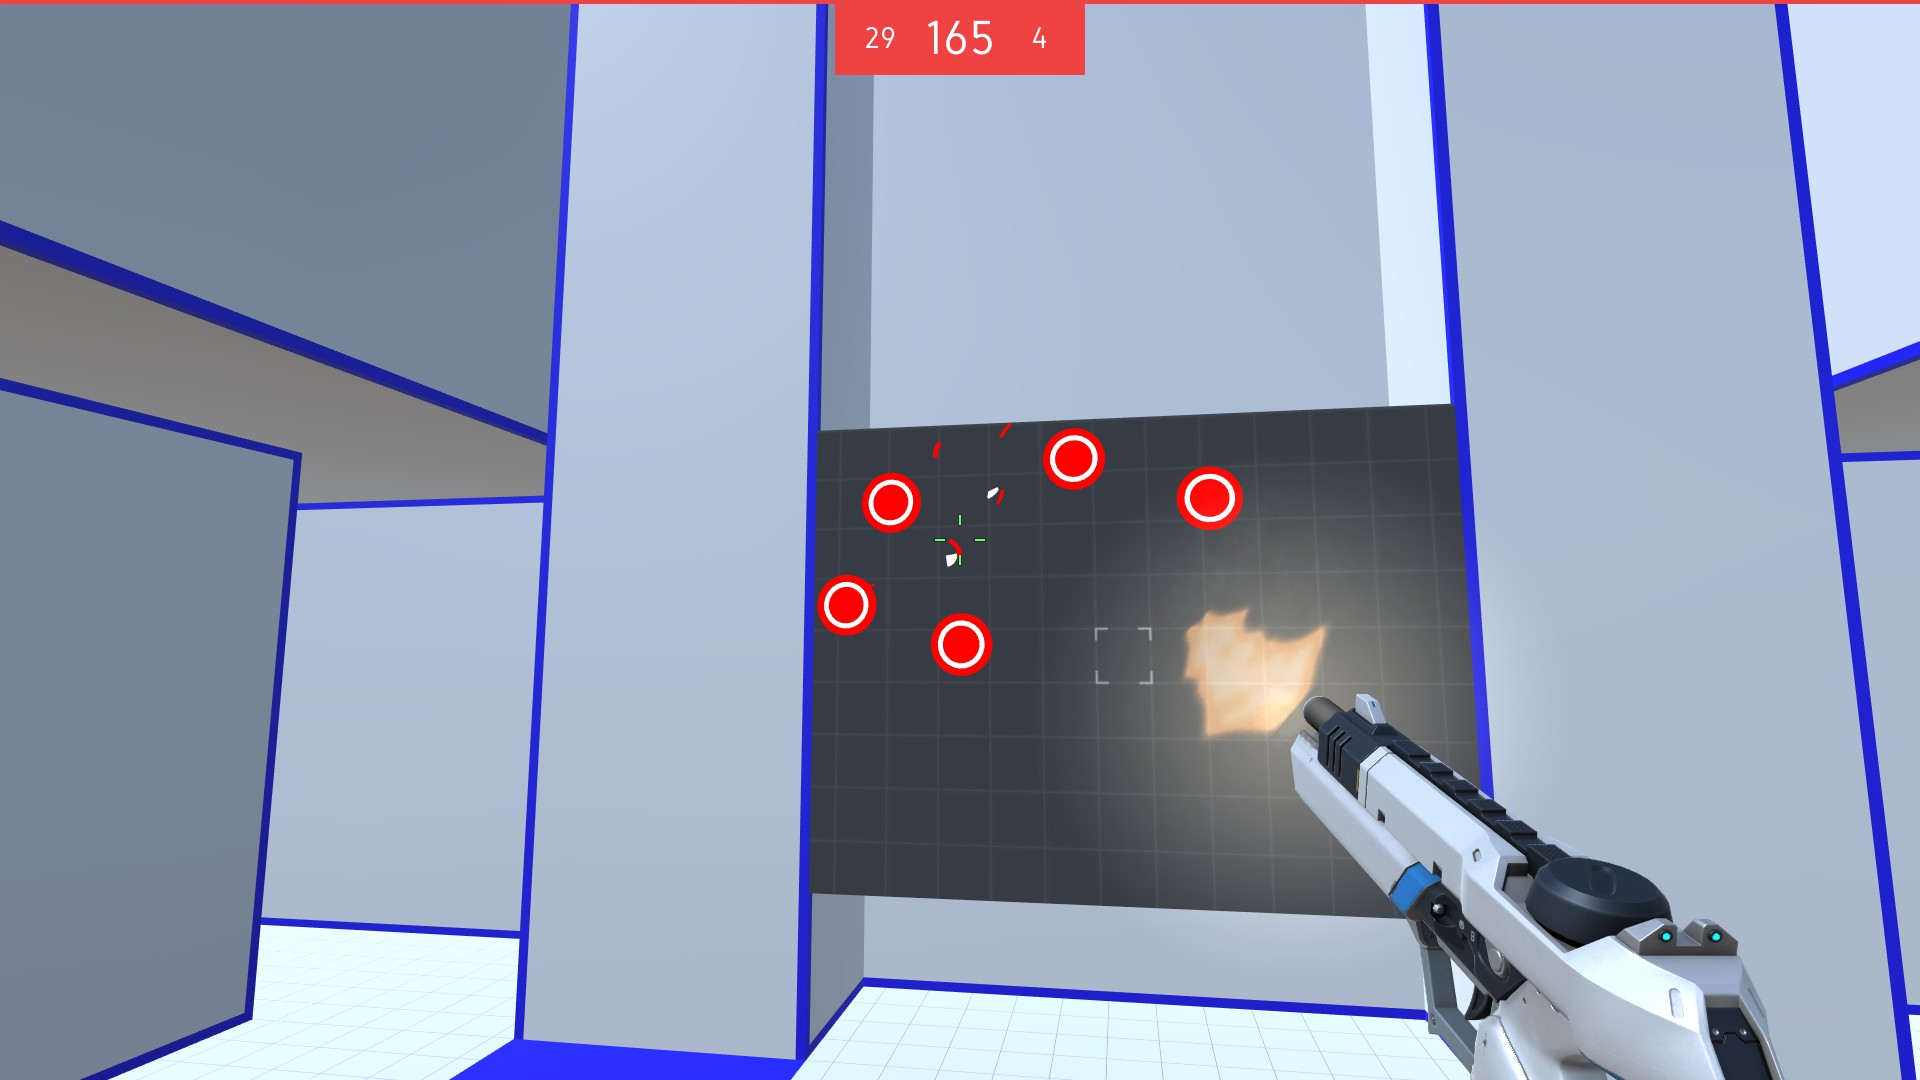target: (1171, 462, 1244, 533), (927, 609, 997, 680), (1039, 425, 1108, 496), (858, 471, 924, 537), (818, 571, 880, 637)
